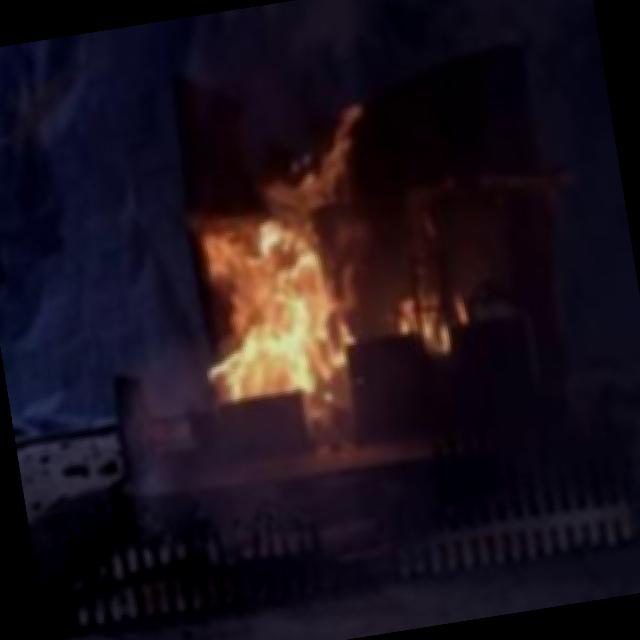fire: (156, 111, 425, 422)
